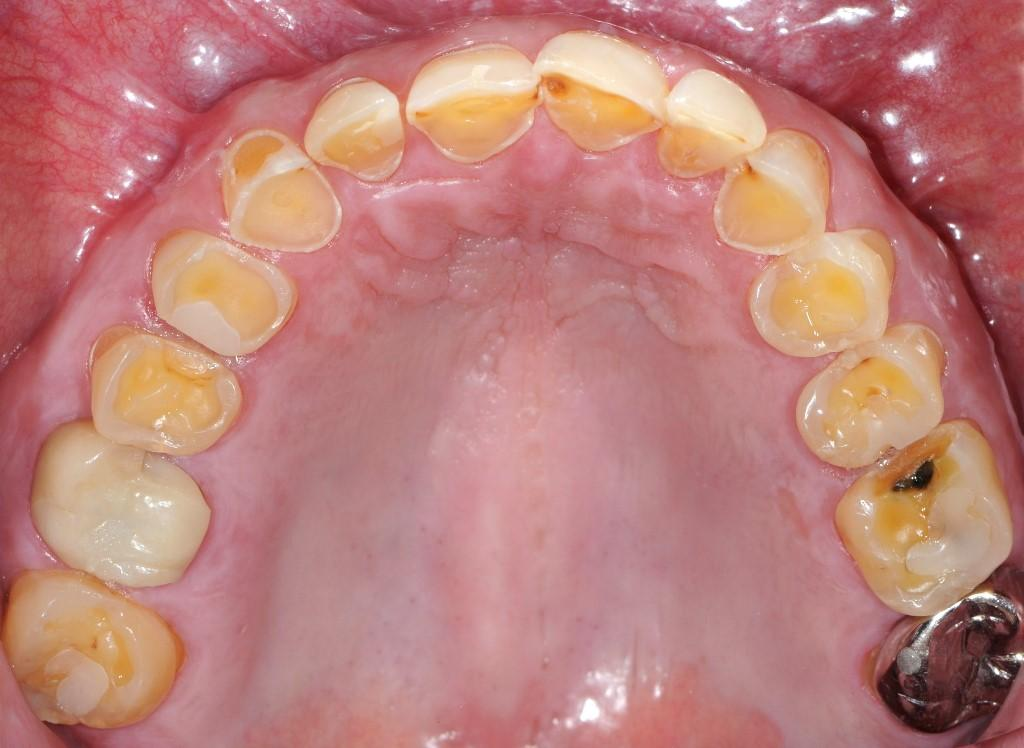UL1BC_decay: (752, 231, 891, 356)
UL1M_decay: (839, 423, 1011, 613)
UL2BC_decay: (795, 327, 942, 464)
UL2M_decay: (884, 589, 1014, 732)
ULCI_decay: (539, 33, 664, 149)
ULC_decay: (714, 130, 826, 254)
ULLI_decay: (663, 69, 764, 178)
UR1BC_decay: (153, 232, 291, 356)
UR1M_healthy: (35, 439, 210, 588)
UR2BC_decay: (90, 332, 242, 454)
UR2M_decay: (9, 581, 176, 727)
URCI_decay: (405, 47, 541, 159)
URC_decay: (224, 130, 340, 252)
URLI_decay: (306, 80, 402, 180)
